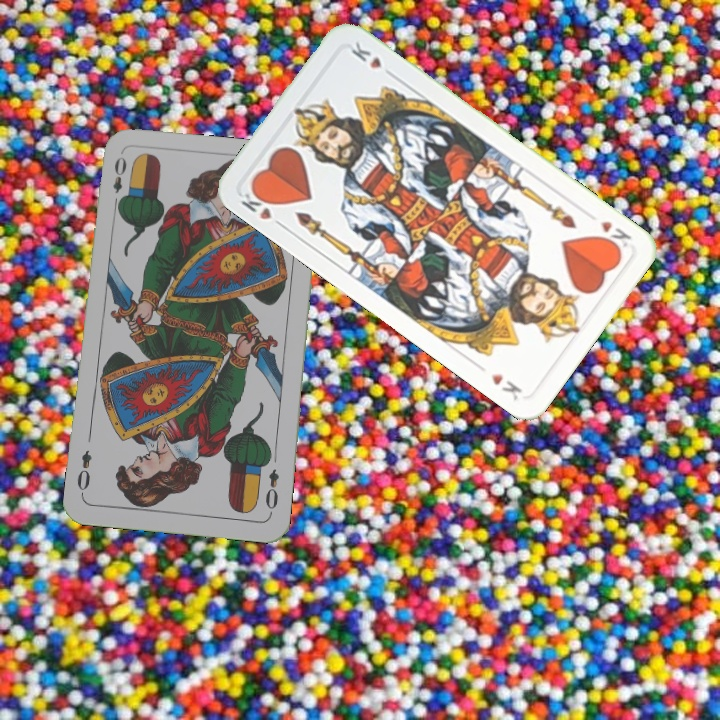EO: (108, 152, 129, 211), (261, 465, 282, 517)
HK: (236, 183, 288, 231), (597, 217, 634, 250)
